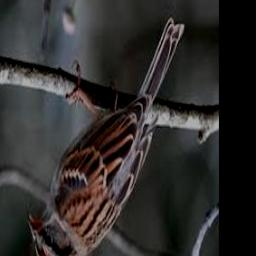Sparrow: (26, 16, 185, 256)
